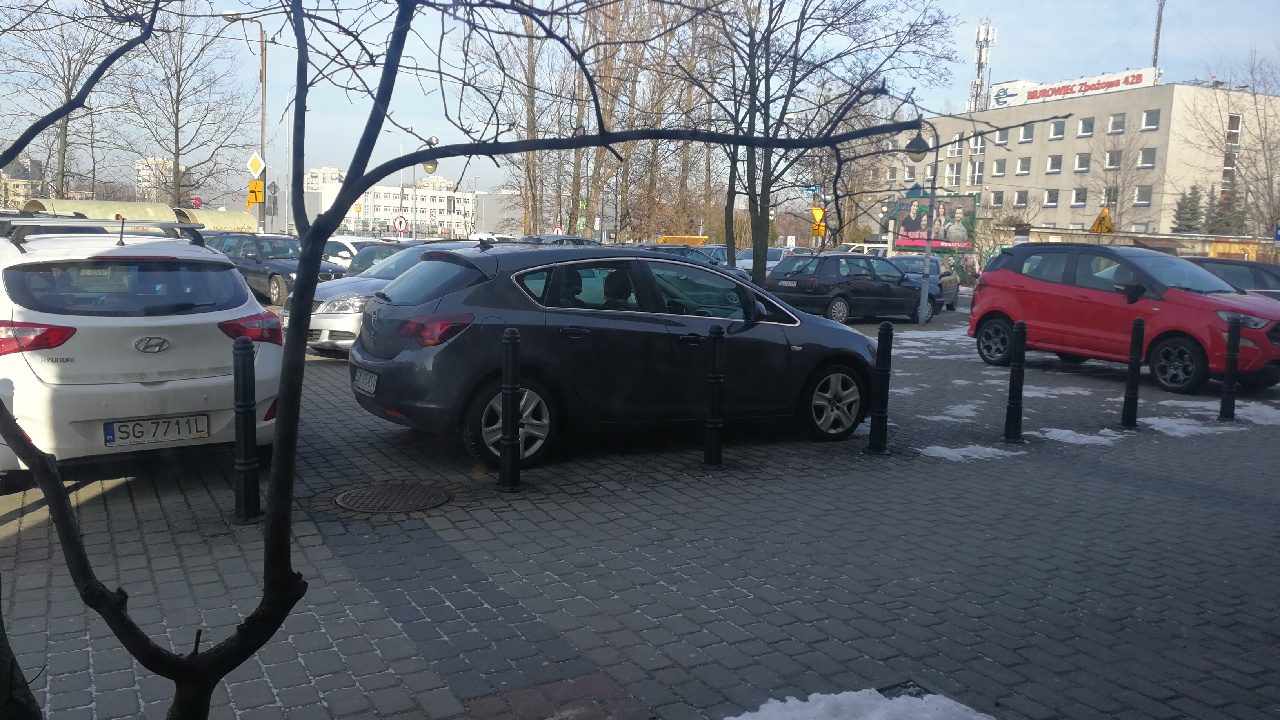D1: (244, 146, 267, 176)
